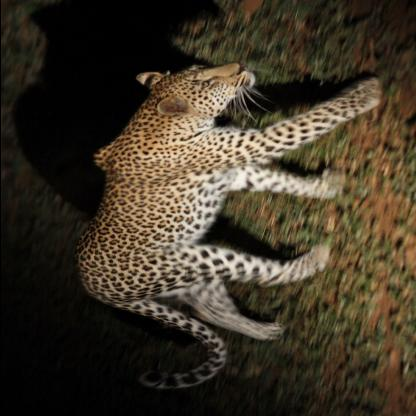leopard: (128, 59, 264, 119)
